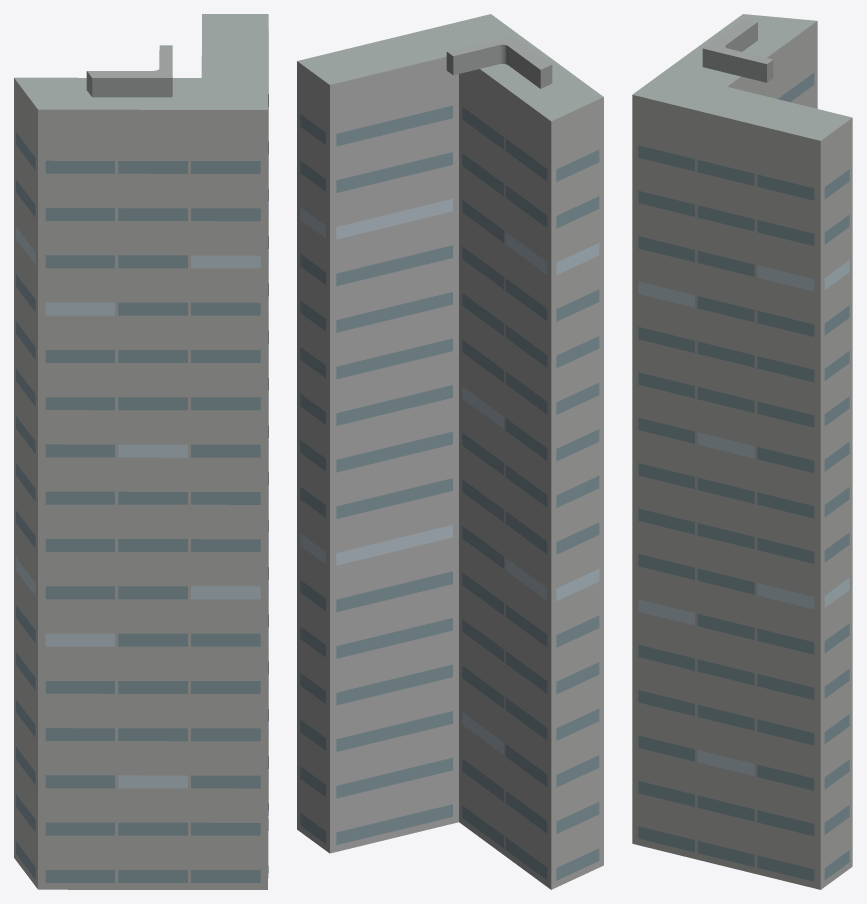
File: fallback-jamsil-ricenz-249.glb
3 renders of one model, left to right at view 1: azimuth 30°, elevation 25°; view 2: azimuth 150°, elevation 25°; view 3: azimuth 270°, elevation 25°, orthographic. The views are drawn at different scales.
Visible parts, largest first — view 1: fallback-jamsil-ricenz-249; view 2: fallback-jamsil-ricenz-249; view 3: fallback-jamsil-ricenz-249.
Boxes of the visible parts, <box> form: fallback-jamsil-ricenz-249: <box>14,14,268,889</box>; fallback-jamsil-ricenz-249: <box>297,14,603,889</box>; fallback-jamsil-ricenz-249: <box>632,14,852,889</box>.
Bounding box in the file's own units: 35.11 × 99 × 25.77.
